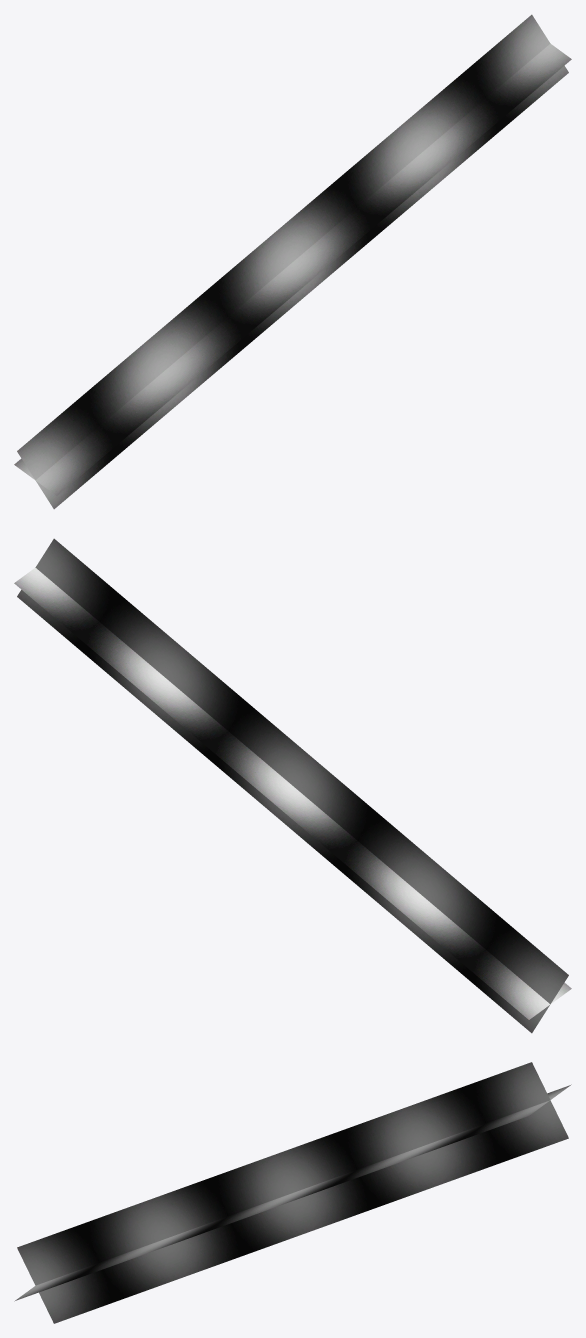
File: vfx_kurp_0777.dae
3 renders of one model, top to bottom at view 1: azimuth 30°, elevation 25°; view 2: azimuth 150°, elevation 25°; view 3: azimuth 330°, elevation 25°, orthographic.
Parts seen in each view (by area): view 1: vfx_kurp_0777; view 2: vfx_kurp_0777; view 3: vfx_kurp_0777.
Part boxes in pixels (x1,y1,x2,y2): vfx_kurp_0777: (14, 14, 571, 509); vfx_kurp_0777: (14, 538, 571, 1033); vfx_kurp_0777: (14, 1062, 571, 1323).
Size of the model in its own units: 1.34 by 0.18 by 0.8759.
1 material, 1 textured.
